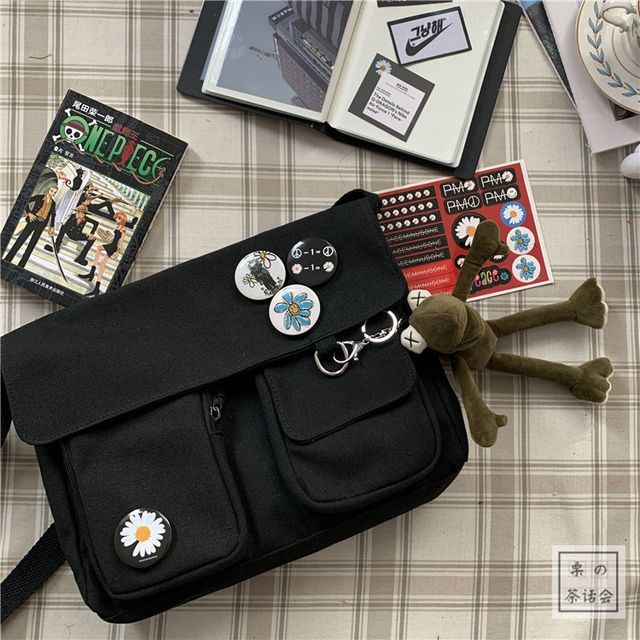nylon: (1, 189, 470, 625)
